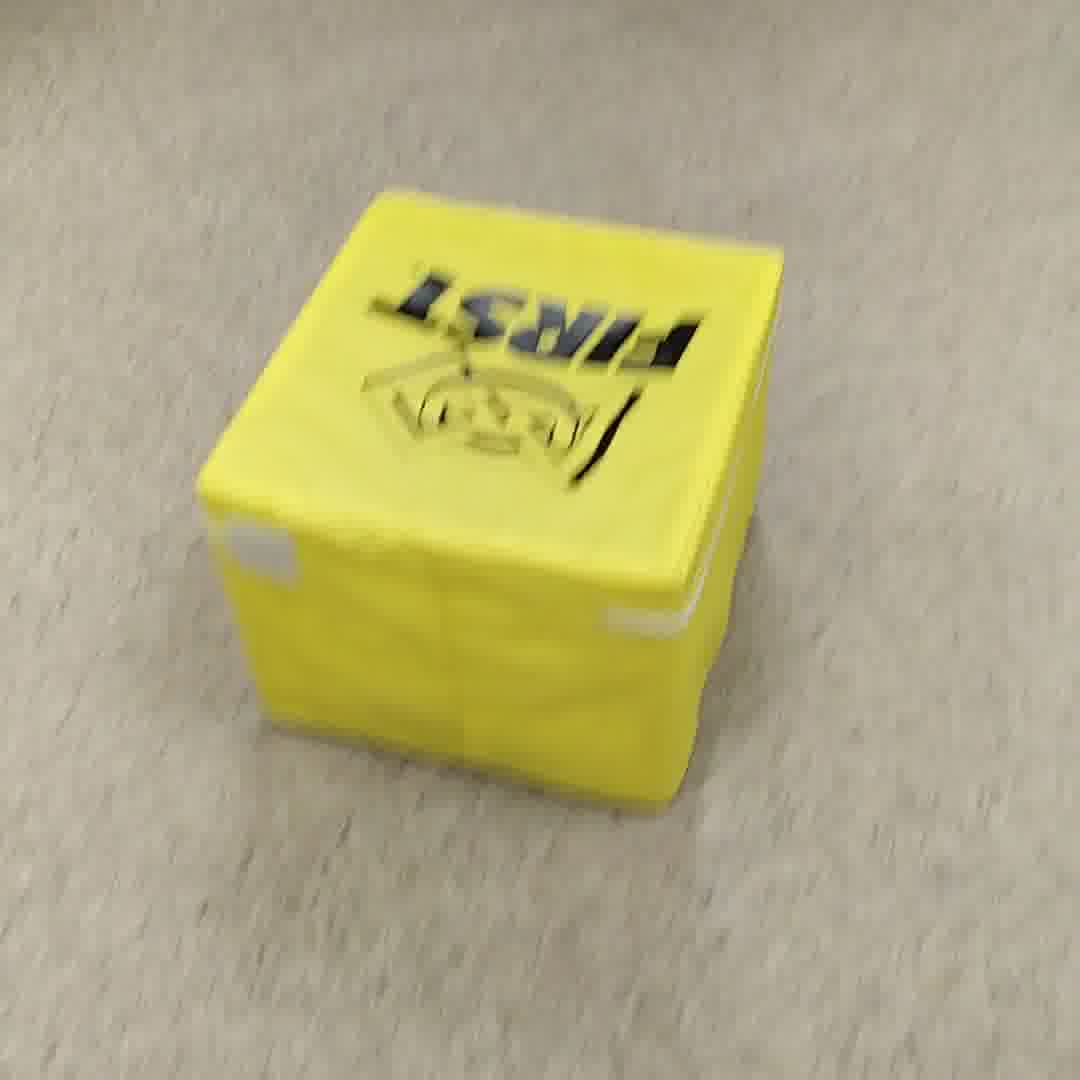box: (189, 172, 808, 820)
